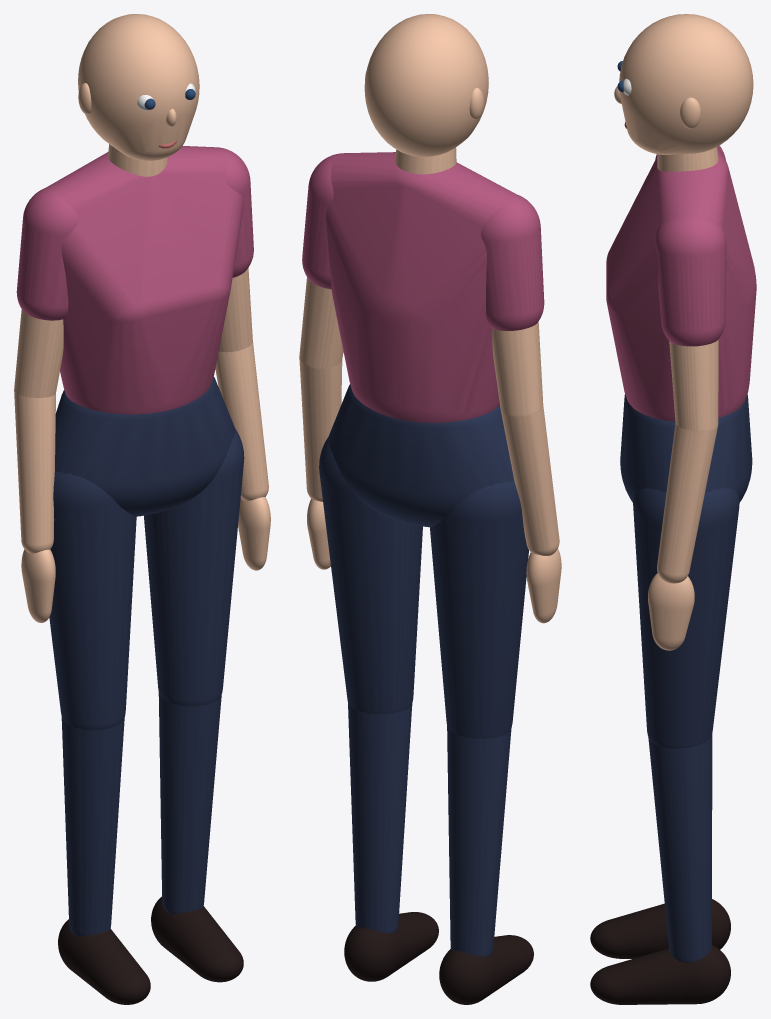
Rendered from body_F.glb.
3 views of the same model, side by side, from view 1: azimuth 30°, elevation 25°; view 2: azimuth 150°, elevation 25°; view 3: azimuth 270°, elevation 25° (orthographic). The views are drawn at different scales.
Visible parts, largest first — view 1: torso_0, thigh_2, thigh_5, pelvis_1, head_17, calf_6, calf_3, sleeve_10, forearm_9, forearm_13, shoe_7, shoe_4 (+6 smaller); view 2: torso_0, thigh_2, thigh_5, pelvis_1, head_17, calf_6, calf_3, sleeve_10, forearm_9, shoe_7, shoe_4, upper_arm_8 (+6 smaller); view 3: torso_0, thigh_5, head_17, calf_6, sleeve_14, pelvis_1, shoe_7, forearm_13, upper_arm_12, shoe_4, hand_15, neck (+1 smaller).
Part boxes in pixels (x1,y1,x2,y2): torso_0: (45,146,243,414); thigh_2: (49,471,136,730); thigh_5: (144,429,244,706); pelvis_1: (55,376,235,516); head_17: (78,14,199,160); calf_6: (158,692,221,913); calf_3: (61,717,124,936); sleeve_10: (16,188,78,320); forearm_9: (14,389,55,553); forearm_13: (215,342,268,500); shoe_7: (151,896,243,982); shoe_4: (58,919,150,1004); torso_0: (326,152,518,422); thigh_2: (430,480,528,738); thigh_5: (319,437,422,714); pelvis_1: (328,384,513,527); head_17: (364,14,488,156); calf_6: (348,703,412,933); calf_3: (447,726,511,956); sleeve_10: (481,194,544,330); forearm_9: (501,404,559,555); shoe_7: (344,912,438,981); shoe_4: (439,935,533,1004); upper_arm_8: (492,322,543,418); torso_0: (606,146,756,421); thigh_5: (633,488,739,748); head_17: (619,14,753,154); calf_6: (648,734,712,962); sleeve_14: (655,217,726,346); pelvis_1: (620,394,752,502); shoe_7: (590,945,730,1004); forearm_13: (657,423,717,583); upper_arm_12: (669,339,718,432); shoe_4: (590,899,730,958); hand_15: (648,573,694,650); neck: (657,147,718,171).
Bounding box in the file's own units: 0.4379 × 1.63 × 0.2558.
